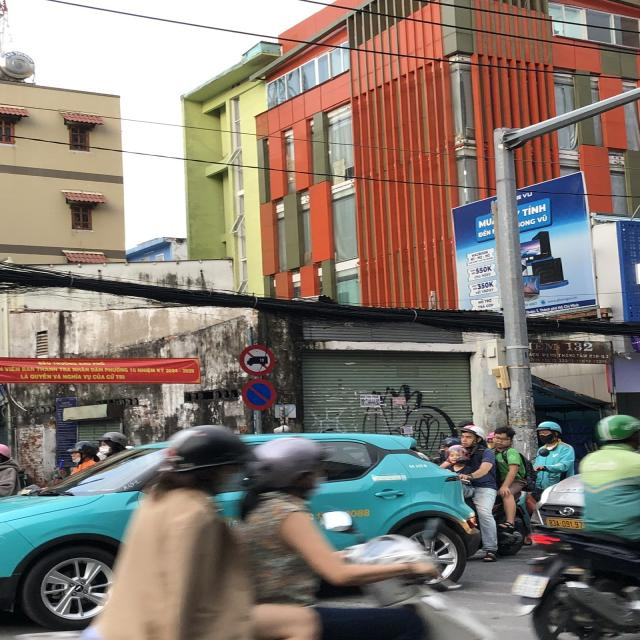Bien bao cam do xe: (240, 377, 278, 411)
Bien bao cam xe oto tai: (238, 342, 276, 377)
